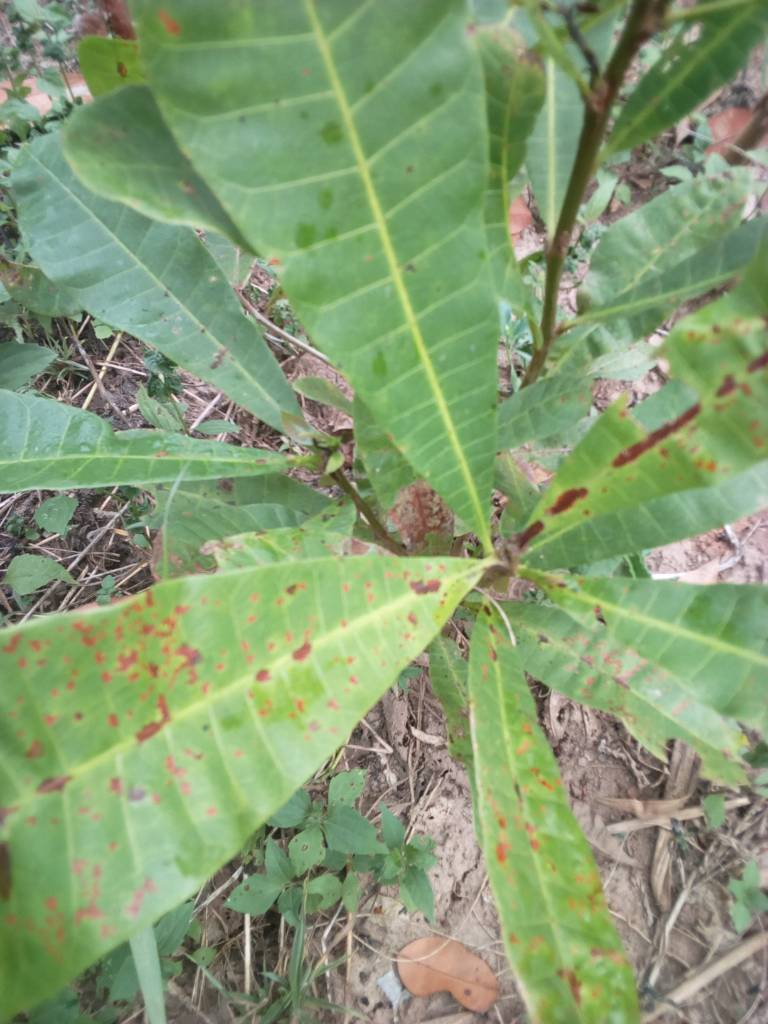Rouille: (1, 504, 505, 1019), (471, 269, 768, 616), (430, 625, 674, 1024)
